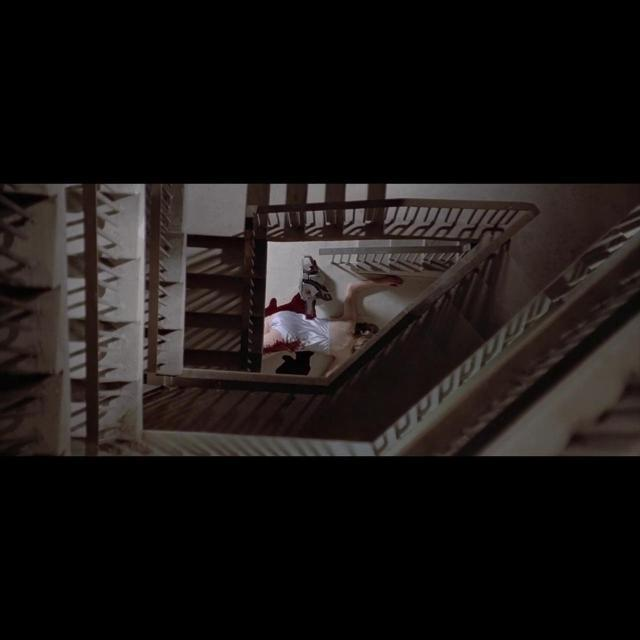blood: (265, 292, 305, 317), (276, 351, 314, 375), (263, 339, 300, 354)
